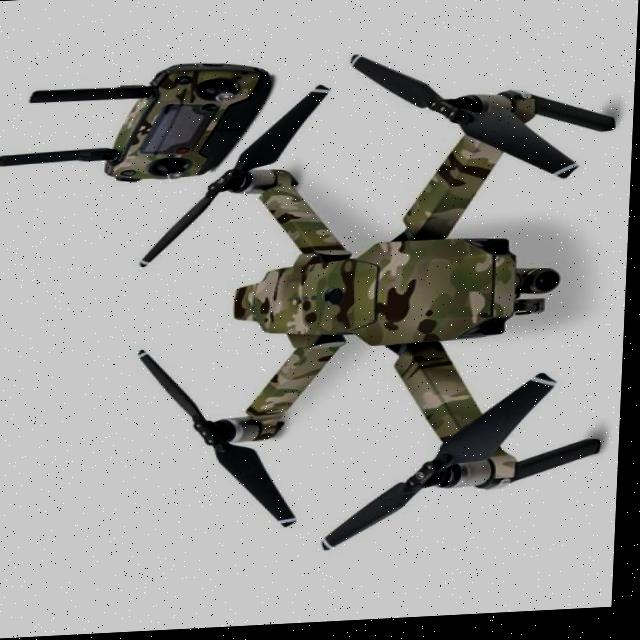drone: (126, 52, 632, 549)
